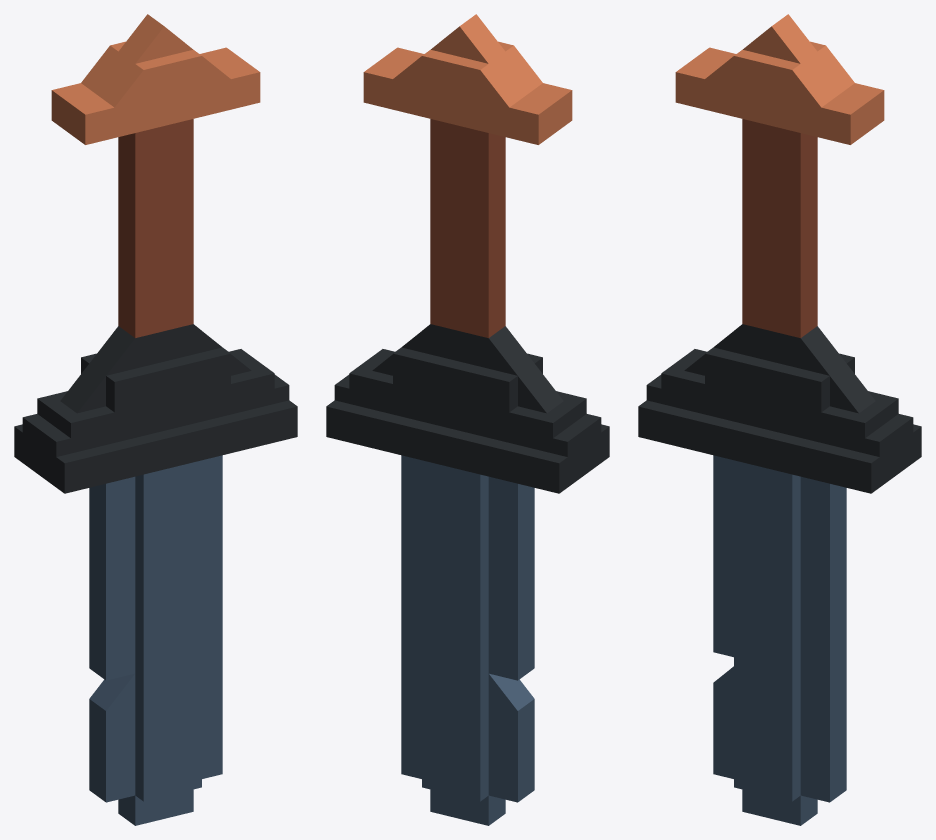
File: Sword1.obj
The picture shows the model from 3 angles, left to right: view 1: azimuth 30°, elevation 25°; view 2: azimuth 150°, elevation 25°; view 3: azimuth 330°, elevation 25°; orthographic projection.
Bounding box in the file's own units: 8 × 26 × 3.
